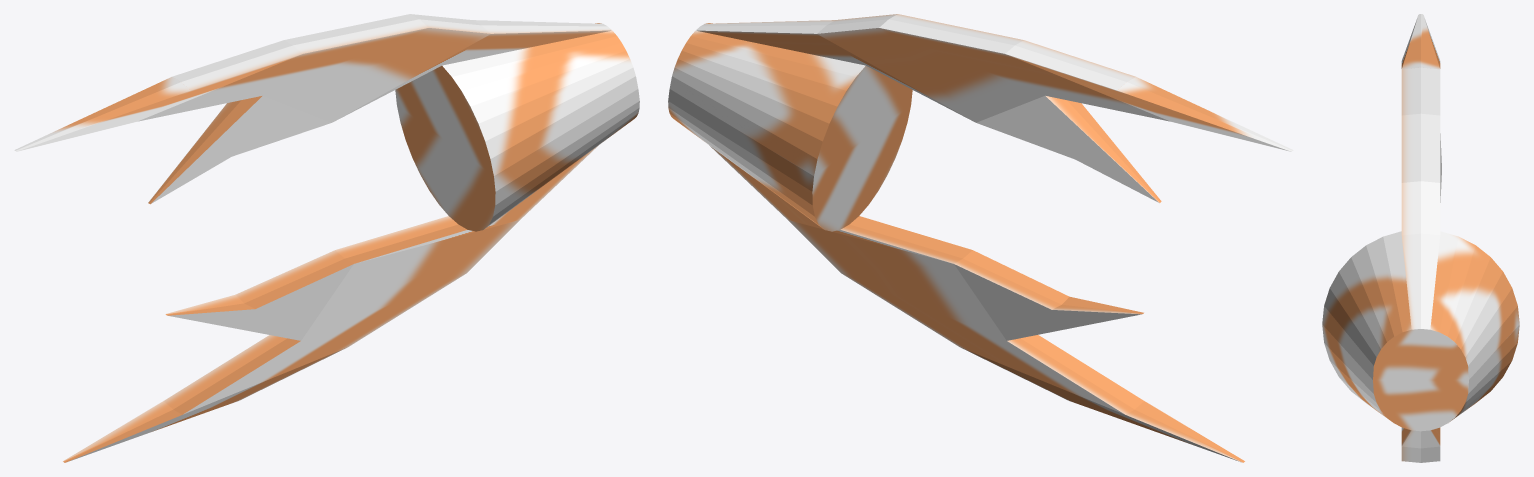
The model's file is antlerClaw.glb.
3 views of the same model, side by side, from view 1: azimuth 30°, elevation 25°; view 2: azimuth 150°, elevation 25°; view 3: azimuth 270°, elevation 25° (orthographic).
Parts seen in each view (by area): view 1: Cylinder; view 2: Cylinder; view 3: Cylinder.
Boxes of the visible parts, x1=… form: Cylinder: x1=14, y1=14, x2=639, y2=462; Cylinder: x1=668, y1=14, x2=1293, y2=462; Cylinder: x1=1322, y1=14, x2=1519, y2=462.
Size of the model in its own units: 7.22 by 4.1 by 2.
Materials: 1 (1 with a texture image).
